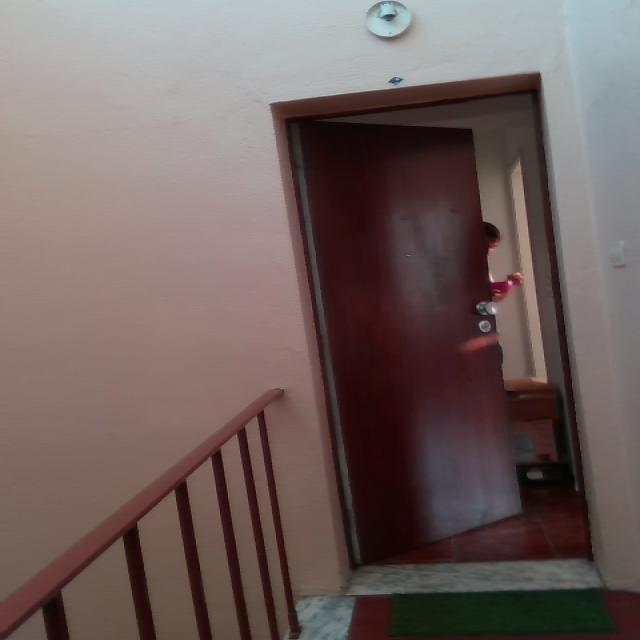door: (289, 118, 525, 566)
